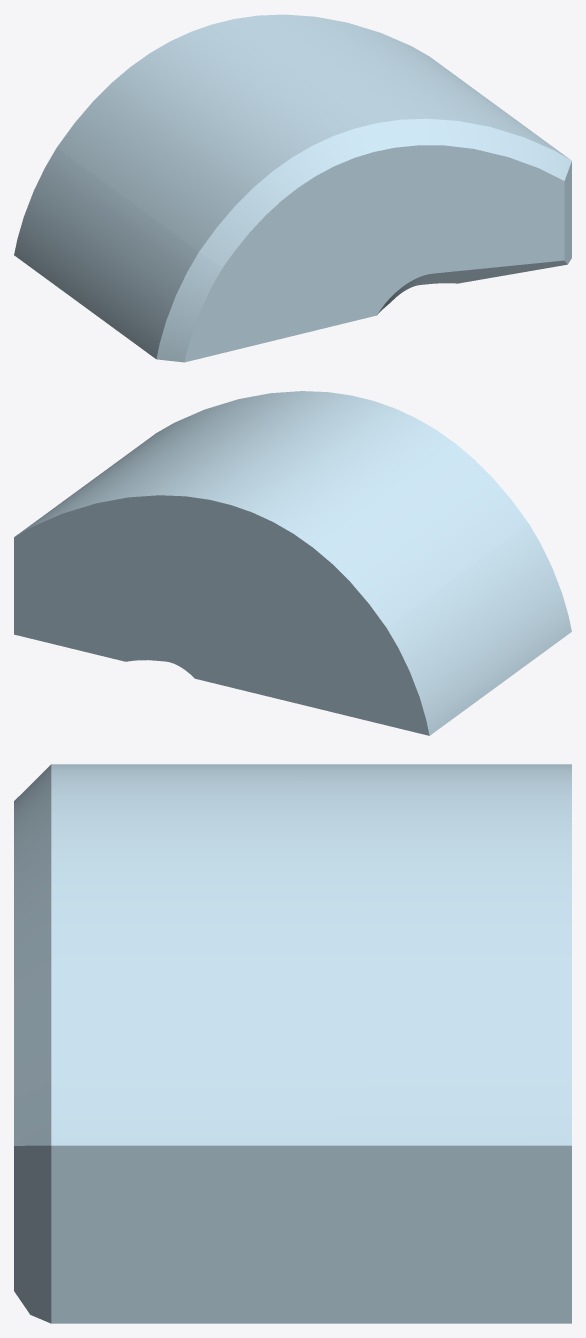
The model's file is STAM - S7.gltf.
3 renders of one model, top to bottom at view 1: azimuth 30°, elevation 25°; view 2: azimuth 150°, elevation 25°; view 3: azimuth 270°, elevation 25°, orthographic. The views are drawn at different scales.
Visible parts, largest first — view 1: S7; view 2: S7; view 3: S7.
Part boxes in pixels (box(x1,y1,x2,y2)): S7: box(14, 14, 571, 362); S7: box(14, 391, 571, 735); S7: box(14, 764, 571, 1323).
Bounding box in the file's own units: 0.0236 × 0.0099 × 0.015.
